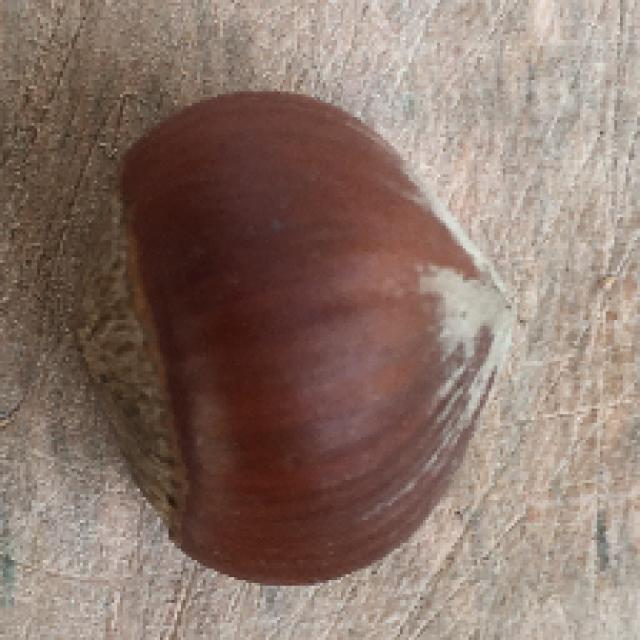damagedHazelnut: (58, 87, 518, 583)
